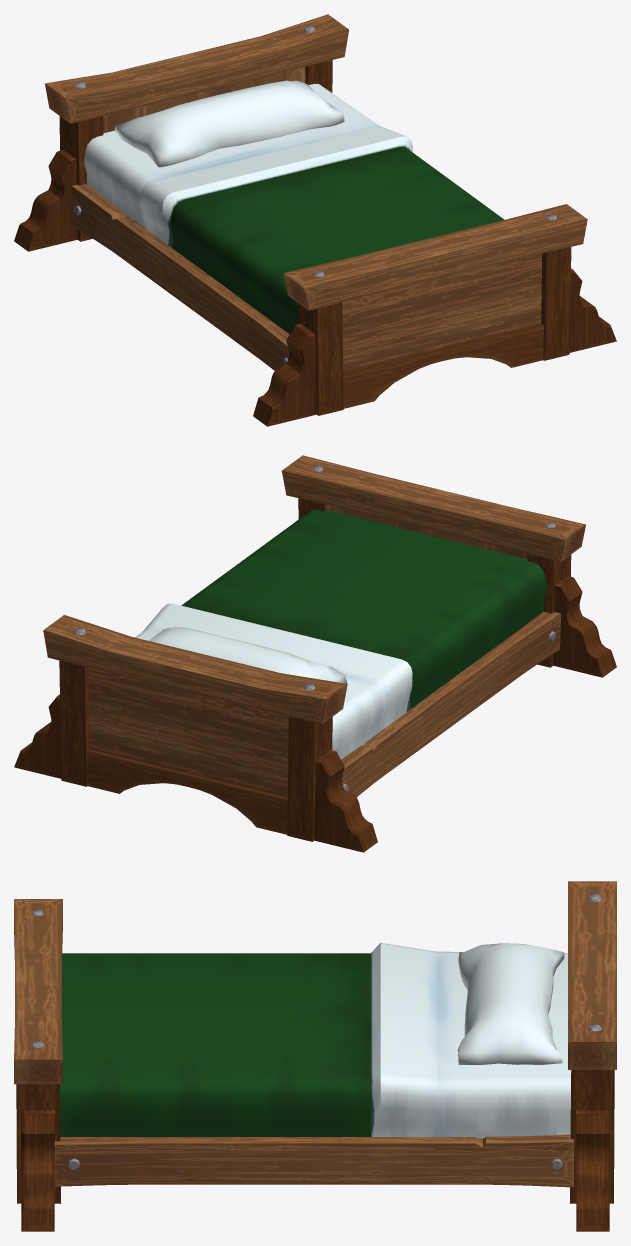
The model's file is Bed_Twin2.gltf.
The picture shows the model from 3 angles, top to bottom: view 1: azimuth 30°, elevation 25°; view 2: azimuth 150°, elevation 25°; view 3: azimuth 270°, elevation 25°; orthographic projection. The views are drawn at different scales.
Parts seen in each view (by area): view 1: Bed_Twin2; view 2: Bed_Twin2; view 3: Bed_Twin2.
Boxes of the visible parts, x1,y1,x2,y2 form: Bed_Twin2: (14, 14, 616, 426); Bed_Twin2: (14, 455, 616, 852); Bed_Twin2: (14, 881, 616, 1231).
Size of the model in its own units: 1.88 by 0.7596 by 2.41.
3 materials, 3 textured.
